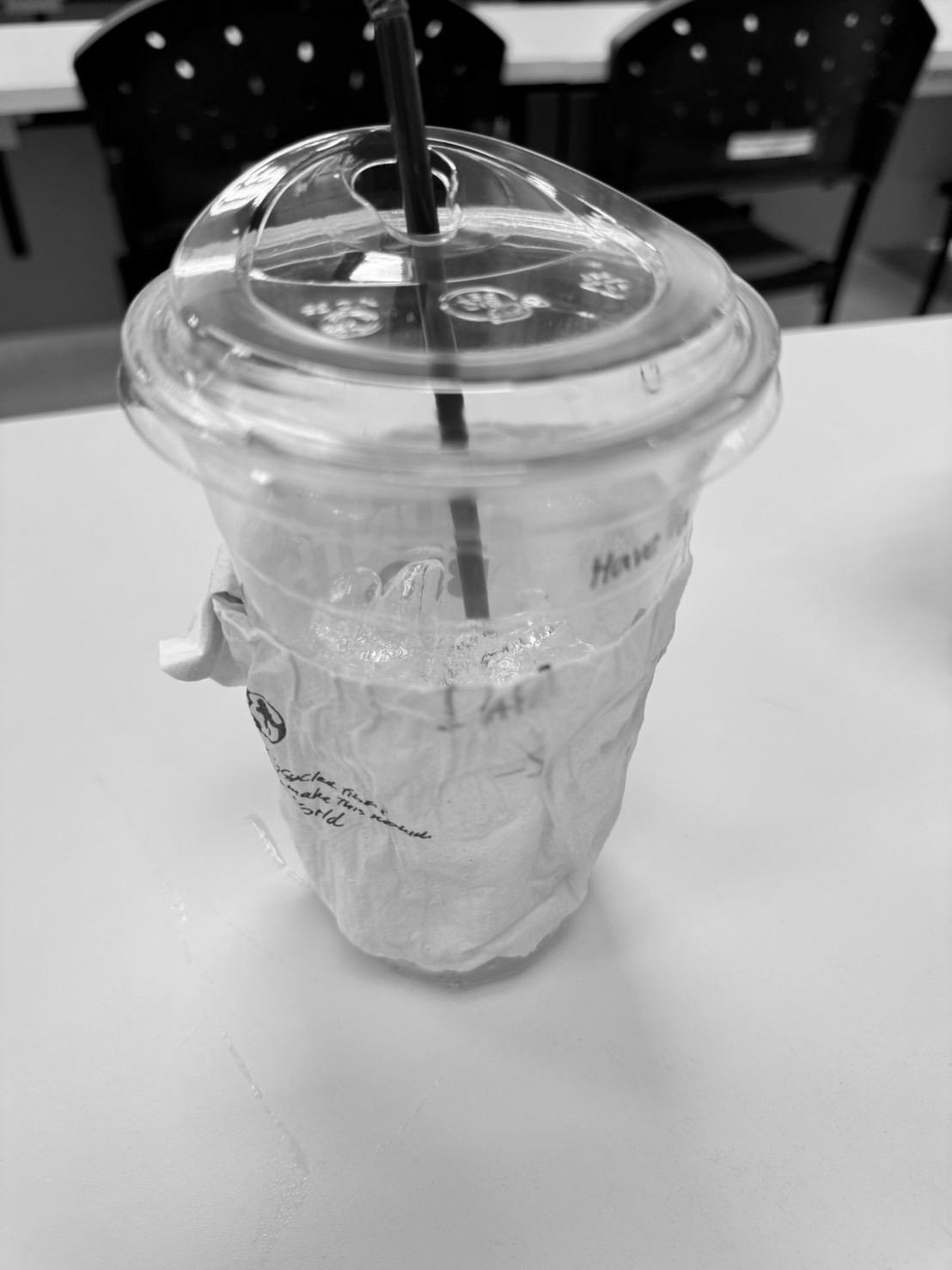bottle: (119, 125, 780, 975)
